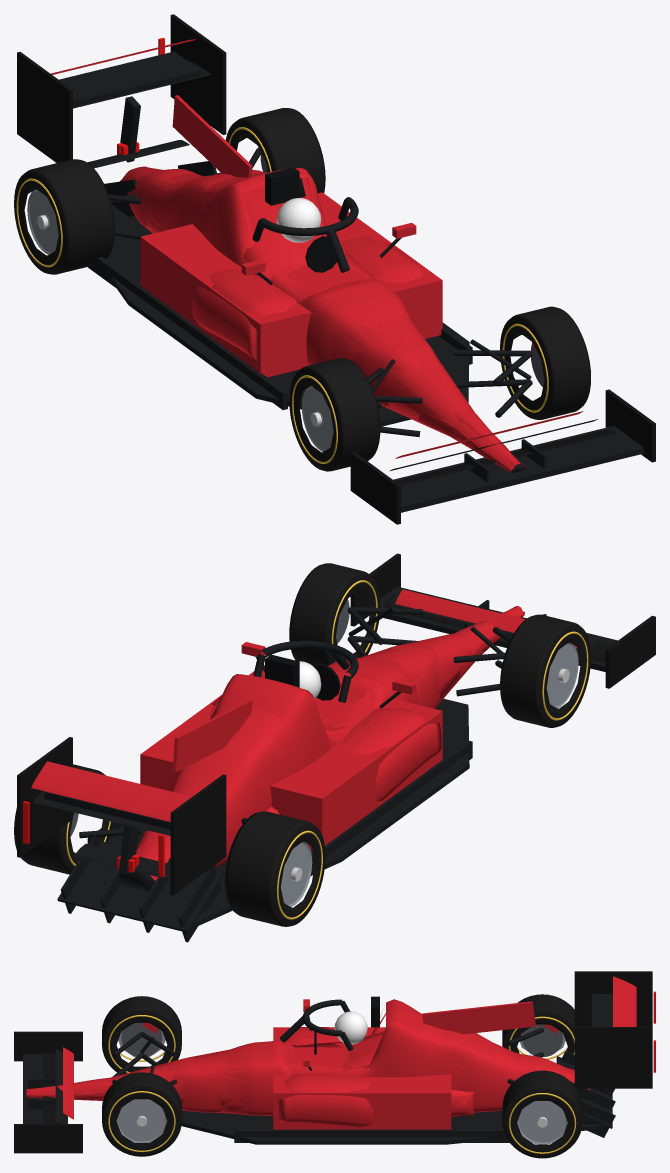
The model's file is f1.raw.glb.
3 views of the same model, one above another, from view 1: azimuth 30°, elevation 25°; view 2: azimuth 150°, elevation 25°; view 3: azimuth 270°, elevation 25° (orthographic). The views are drawn at different scales.
Visible parts, largest first — view 1: body (×3), carbon (×2), rubber (×7), paint (×3), accent, rim (×2), black, helmet; view 2: paint (×2), carbon (×2), body (×3), rubber (×7), accent, rim (×2), black, helmet, taillight; view 3: body (×3), paint (×3), rubber (×8), carbon (×2), accent, rim (×2), disc (×4), tyreStripe (×3), helmet, black.
Part boxes in pixels (x1=…): body (×3): x1=120, y1=166, x2=524, y2=473; carbon (×2): x1=59, y1=51, x2=644, y2=512; rubber (×7): x1=14, y1=108, x2=590, y2=471; paint (×3): x1=51, y1=39, x2=583, y2=458; accent: x1=17, y1=14, x2=655, y2=524; rim (×2): x1=27, y1=189, x2=333, y2=451; black: x1=265, y1=167, x2=336, y2=272; helmet: x1=276, y1=198, x2=321, y2=242; paint (×2): x1=31, y1=589, x2=577, y2=850; carbon (×2): x1=33, y1=586, x2=617, y2=942; body (×3): x1=119, y1=606, x2=524, y2=891; rubber (×7): x1=14, y1=563, x2=590, y2=926; accent: x1=17, y1=553, x2=655, y2=895; rim (×2): x1=281, y1=643, x2=578, y2=906; black: x1=265, y1=654, x2=340, y2=700; helmet: x1=299, y1=661, x2=321, y2=698; taillight: x1=23, y1=801, x2=164, y2=876; body (×3): x1=26, y1=999, x2=590, y2=1115; paint (×3): x1=63, y1=976, x2=636, y2=1129; rubber (×8): x1=102, y1=994, x2=582, y2=1158; carbon (×2): x1=23, y1=994, x2=615, y2=1144; accent: x1=14, y1=971, x2=652, y2=1153; rim (×2): x1=116, y1=1099, x2=567, y2=1144; disc (×4): x1=121, y1=1023, x2=562, y2=1057; tyreStripe (×3): x1=108, y1=1015, x2=576, y2=1153; helmet: x1=334, y1=1011, x2=367, y2=1044; black: x1=314, y1=996, x2=379, y2=1054.
Size of the model in its own units: 2.01 by 1.16 by 5.77.
